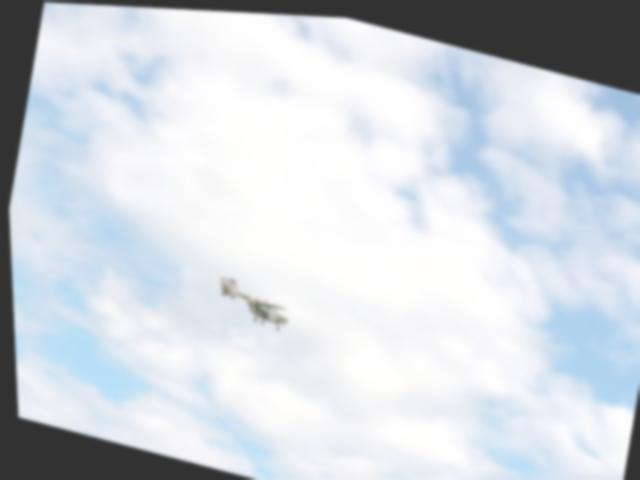uav: (210, 273, 295, 332)
